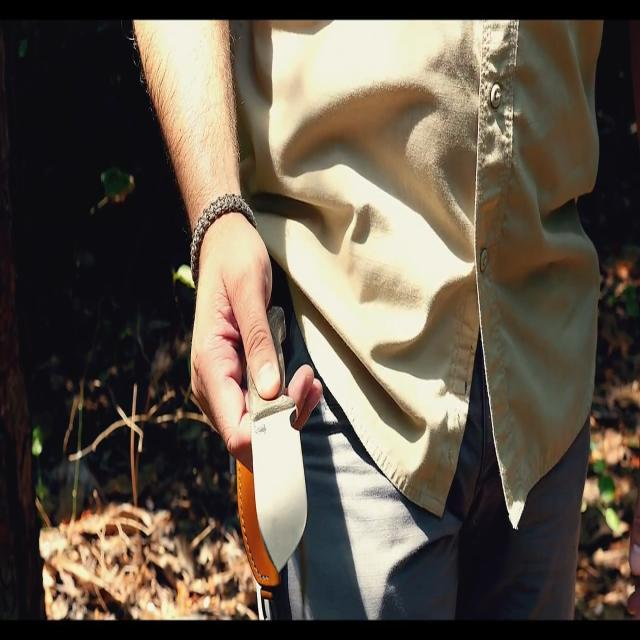knife: (247, 386, 315, 580)
